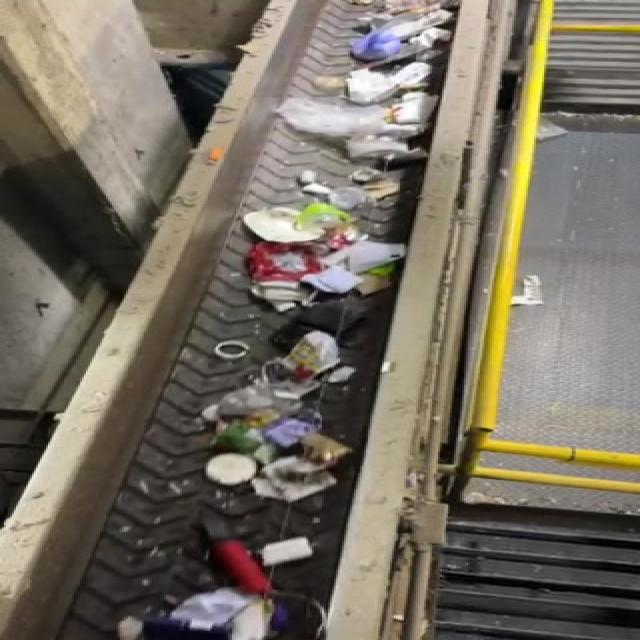pet: (180, 529, 269, 593)
